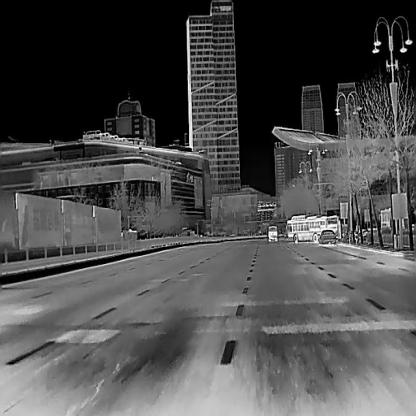bus: (284, 212, 340, 242), (378, 206, 409, 230), (266, 224, 278, 242)
car: (317, 229, 337, 243)
